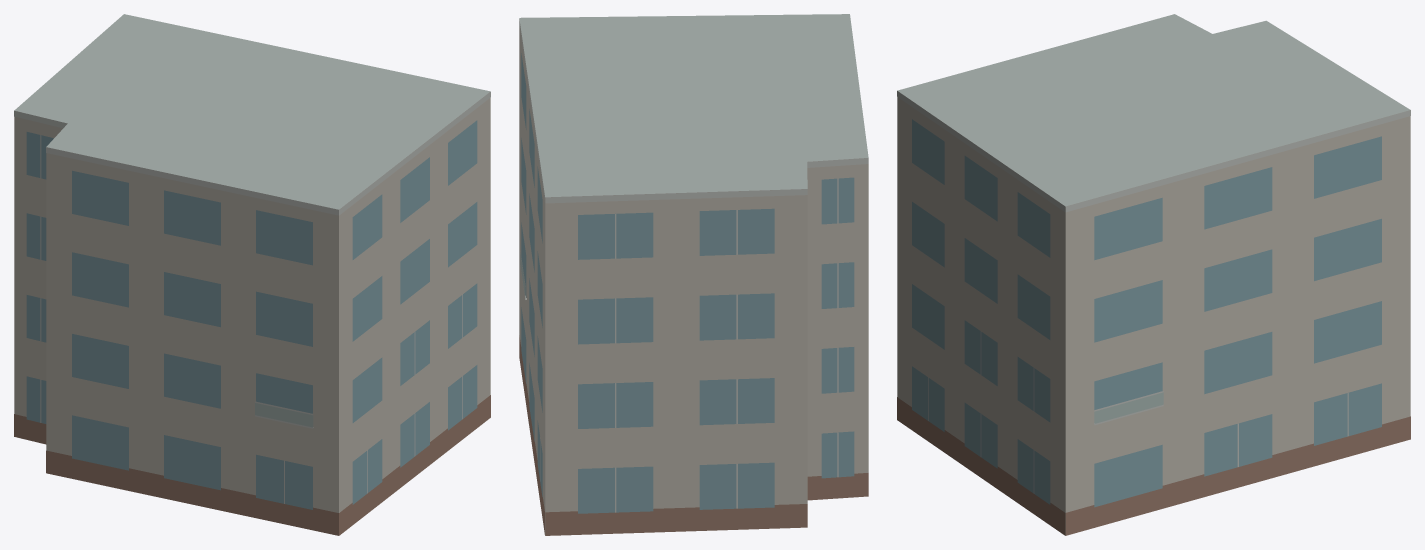
Rendered from survey-upis-32694706.glb.
The picture shows the model from 3 angles, left to right: view 1: azimuth 30°, elevation 25°; view 2: azimuth 150°, elevation 25°; view 3: azimuth 270°, elevation 25°; orthographic projection. The views are drawn at different scales.
Parts seen in each view (by area): view 1: survey-upis-32694706.tmp; view 2: survey-upis-32694706.tmp; view 3: survey-upis-32694706.tmp.
Part boxes in pixels (x1=…): survey-upis-32694706.tmp: x1=14, y1=14, x2=490, y2=535; survey-upis-32694706.tmp: x1=519, y1=14, x2=868, y2=535; survey-upis-32694706.tmp: x1=897, y1=14, x2=1410, y2=535.
Size of the model in its own units: 16.8 by 13.4 by 18.95.
